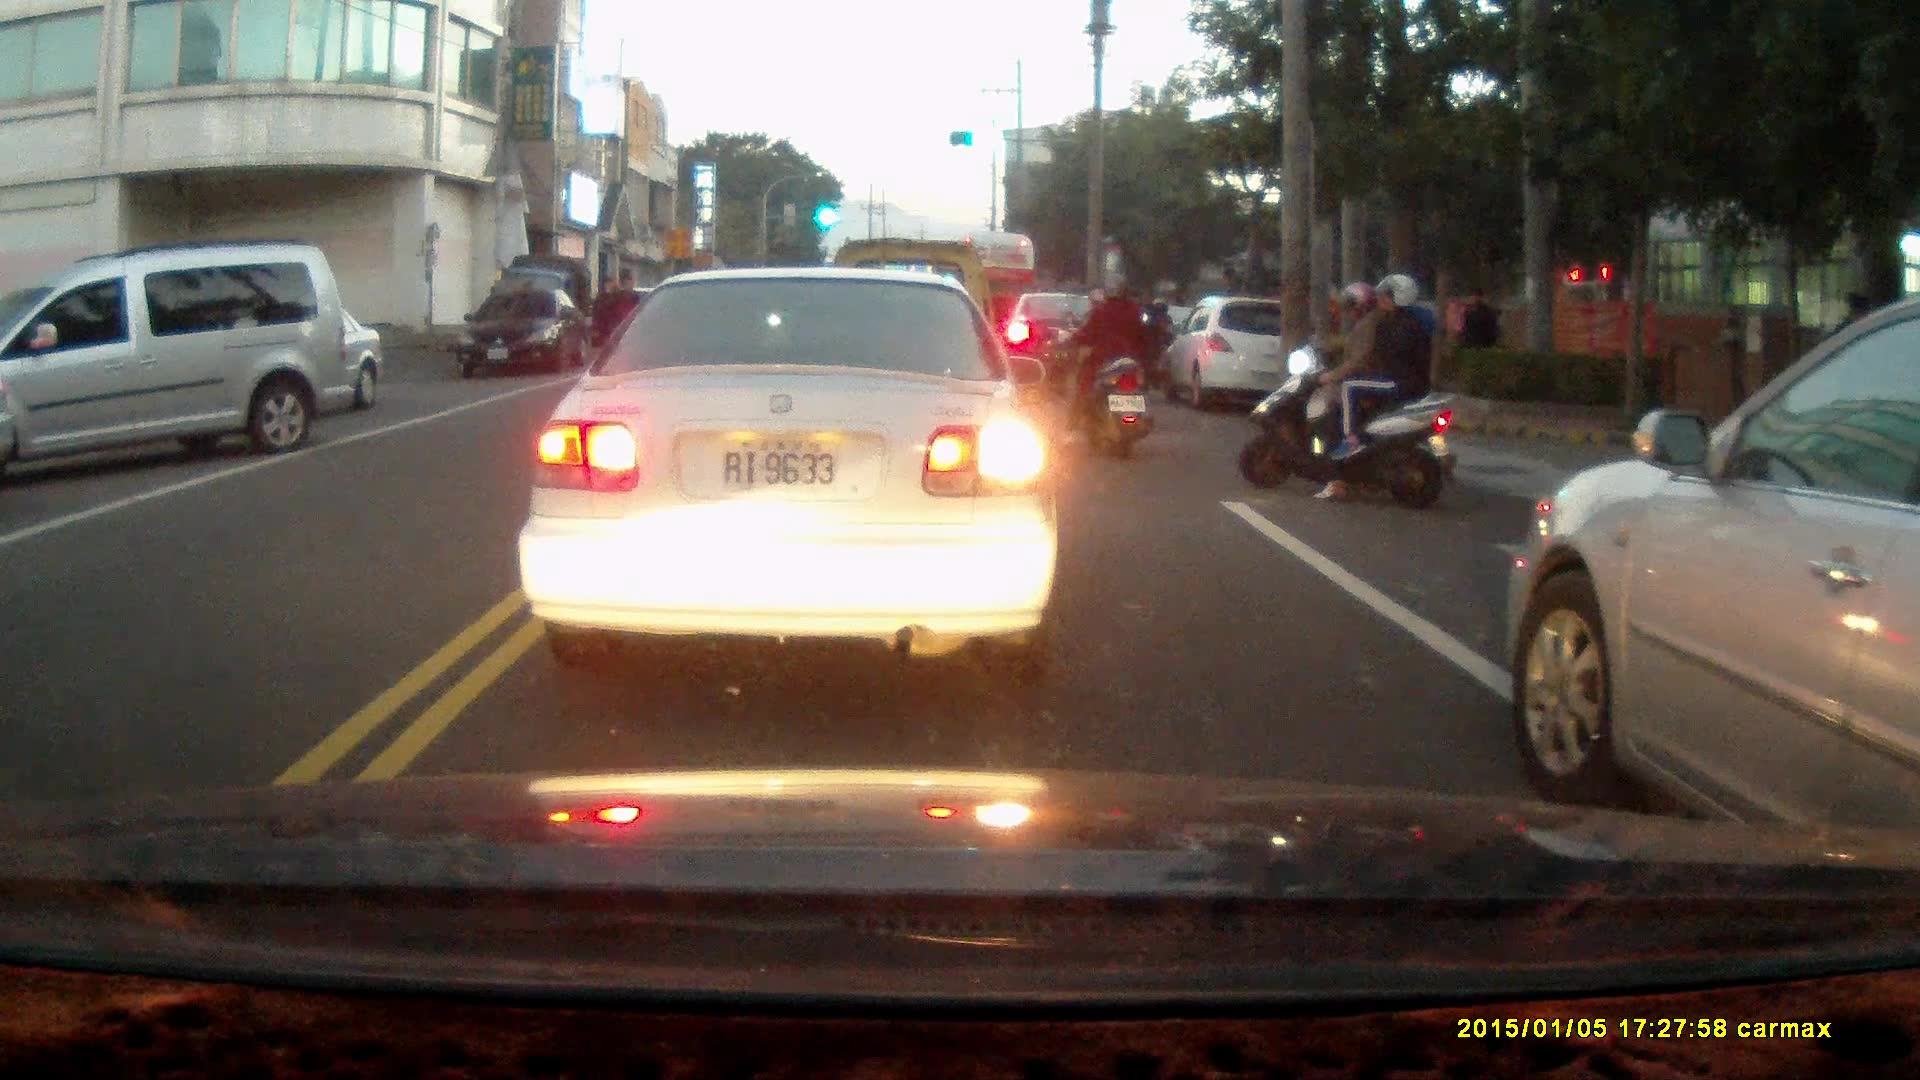pedestrian: (1453, 281, 1496, 379), (589, 275, 622, 362), (614, 273, 642, 360)
rider: (1237, 272, 1458, 509), (1059, 267, 1152, 459), (1139, 294, 1173, 380)
vehicle: (1509, 298, 1920, 848), (535, 264, 1056, 648), (1, 243, 360, 481), (1158, 295, 1314, 407), (997, 287, 1134, 396), (461, 284, 587, 378)
